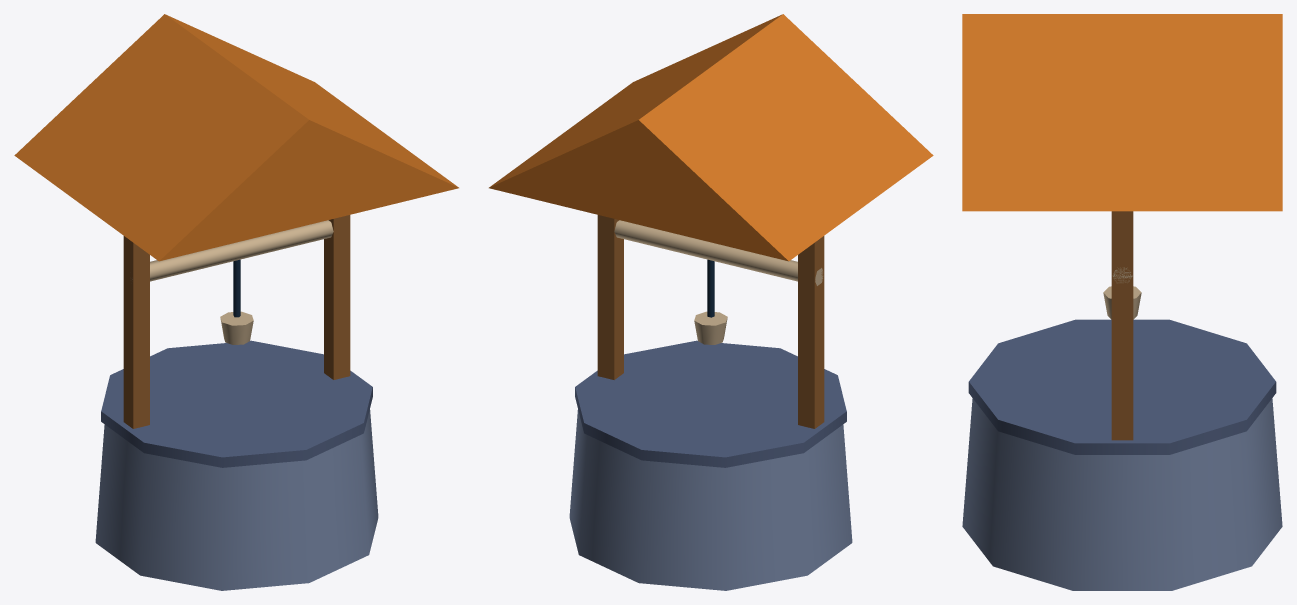
The model's file is well.glb.
The picture shows the model from 3 angles, left to right: view 1: azimuth 30°, elevation 25°; view 2: azimuth 150°, elevation 25°; view 3: azimuth 270°, elevation 25°; orthographic projection. The views are drawn at different scales.
Parts seen in each view (by area): view 1: well_mesh; view 2: well_mesh; view 3: well_mesh.
Boxes of the visible parts, x1,y1,x2,y2 form: well_mesh: (14, 14, 458, 590); well_mesh: (489, 14, 933, 590); well_mesh: (962, 14, 1282, 590).
Bounding box in the file's own units: 1.8 × 2.65 × 1.5.
